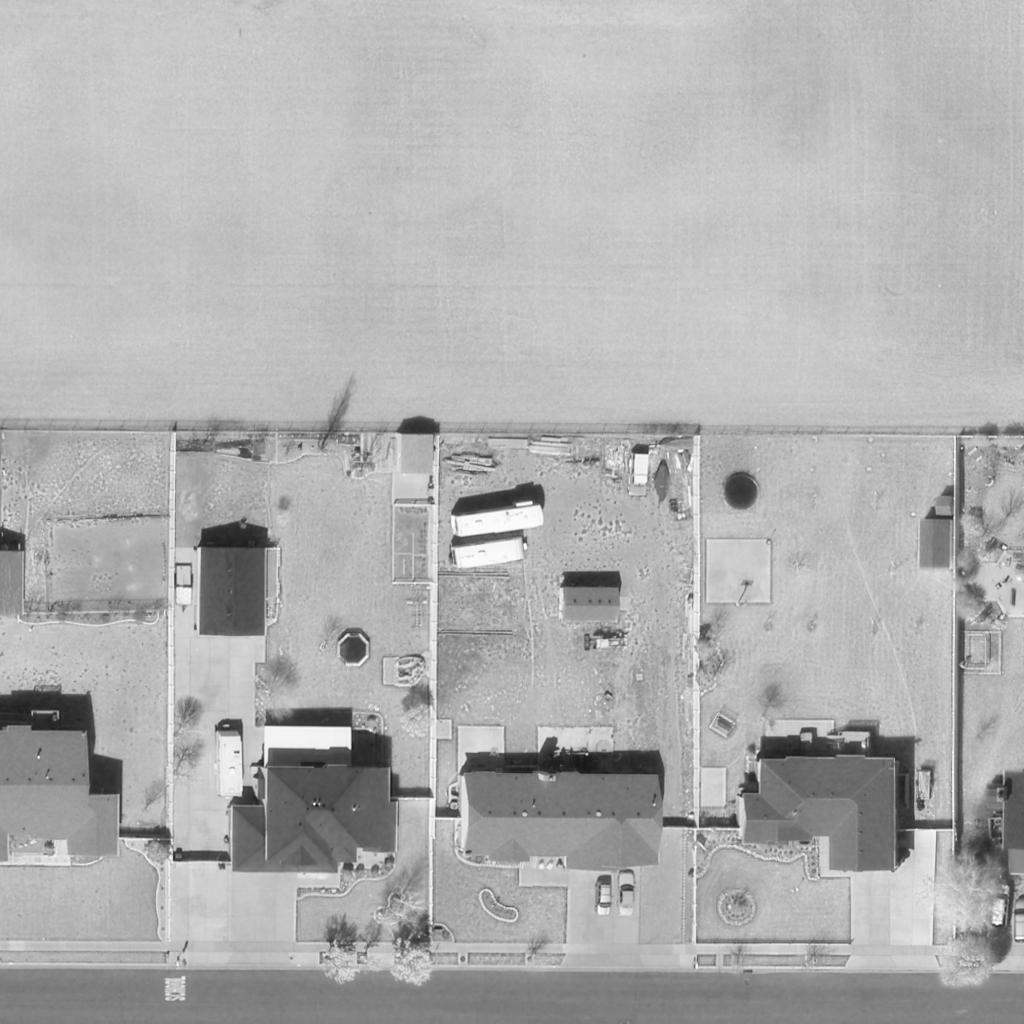vehicle: (448, 503, 544, 539), (450, 537, 528, 569), (213, 727, 245, 797), (984, 884, 1012, 930), (615, 869, 637, 919), (594, 883, 612, 915)
